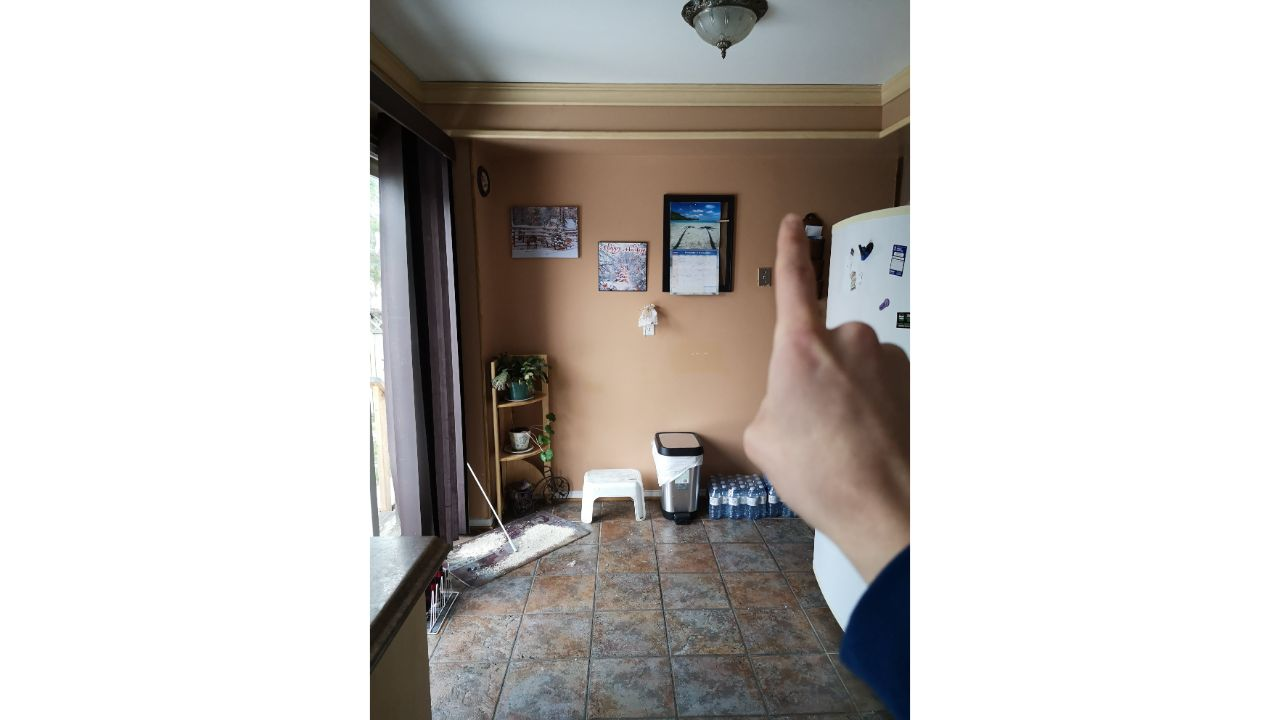finger: (745, 207, 912, 550)
